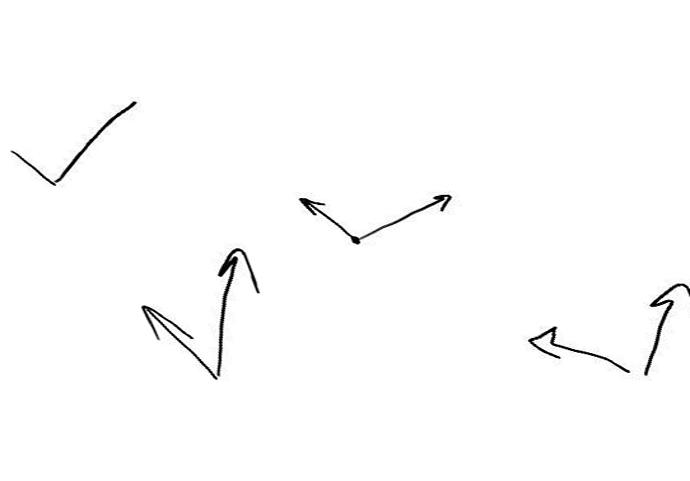arrow: (142, 307, 216, 380), (217, 249, 257, 374), (523, 325, 629, 370), (362, 192, 450, 236), (646, 282, 688, 369), (298, 195, 356, 240)
arrownohead: (52, 101, 139, 177), (8, 147, 56, 185)
